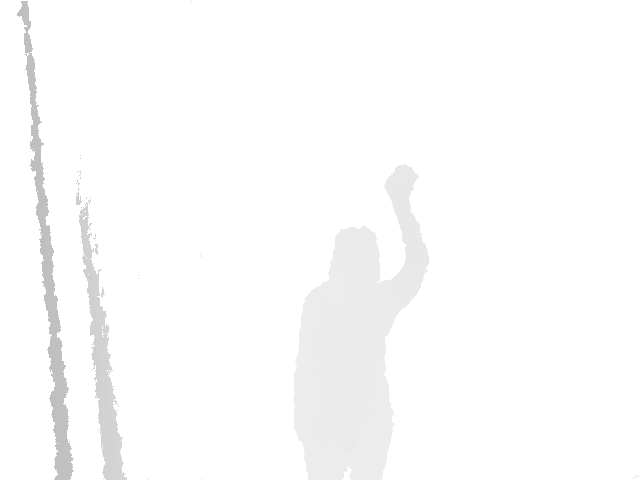hand: (385, 163, 419, 206)
head: (326, 225, 381, 293)
person: (291, 162, 431, 480)
